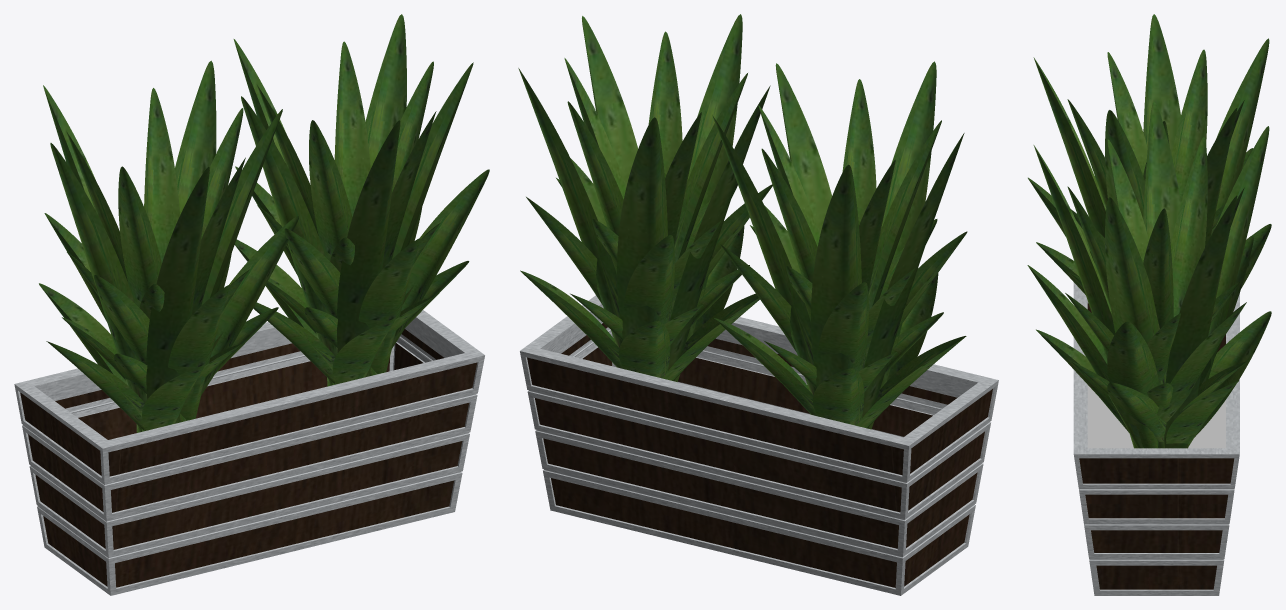
The model's file is Saksı Çiçek 1.fbx.
3 renders of one model, left to right at view 1: azimuth 30°, elevation 25°; view 2: azimuth 150°, elevation 25°; view 3: azimuth 270°, elevation 25°, orthographic. The views are drawn at different scales.
Parts seen in each view (by area): view 1: F1_MAD_TREC602424_1, Subsurf1, Subsurf31, Subsurf3, Subsurf10, Subsurf40, Subsurf33, Subsurf8, Subsurf38, Subsurf52, Subsurf5, Subsurf35 (+29 smaller); view 2: F1_MAD_TREC602424_1, Subsurf2, Subsurf32, Subsurf3, Subsurf5, Subsurf35, Subsurf33, Subsurf1, Subsurf31, Subsurf4, Subsurf34, Subsurf8 (+29 smaller); view 3: F1_MAD_TREC602424_1, Subsurf35, Subsurf34, Subsurf37, Subsurf32, Subsurf33, Subsurf52, Subsurf2, Subsurf31, Subsurf7, Subsurf3, Group8 (+22 smaller).
Boxes of the visible parts, box(x1,y1,x2,y2) form: F1_MAD_TREC602424_1: box(14, 310, 484, 595); Subsurf1: box(146, 166, 209, 423); Subsurf31: box(337, 120, 400, 377); Subsurf3: box(50, 143, 147, 431); Subsurf10: box(144, 88, 179, 262); Subsurf40: box(334, 41, 370, 216); Subsurf33: box(241, 96, 337, 384); Subsurf8: box(118, 166, 161, 307); Subsurf38: box(309, 120, 352, 261); Subsurf52: box(392, 169, 489, 348); Subsurf5: box(175, 60, 216, 215); Subsurf35: box(365, 14, 406, 168); F1_MAD_TREC602424_1: box(520, 295, 998, 595); Subsurf2: box(811, 164, 861, 387); Subsurf32: box(617, 117, 667, 339); Subsurf3: box(862, 133, 964, 428); Subsurf5: box(712, 115, 816, 394); Subsurf35: box(518, 68, 622, 347); Subsurf33: box(668, 85, 770, 381); Subsurf1: box(868, 61, 936, 429); Subsurf31: box(674, 14, 742, 381); Subsurf4: box(775, 63, 831, 235); Subsurf34: box(582, 16, 637, 187); Subsurf8: box(868, 120, 941, 310); F1_MAD_TREC602424_1: box(1073, 282, 1239, 595); Subsurf35: box(1164, 195, 1237, 448); Subsurf34: box(1105, 197, 1168, 448); Subsurf37: box(1171, 137, 1207, 316); Subsurf32: box(1202, 126, 1269, 390); Subsurf33: box(1143, 102, 1180, 244); Subsurf52: box(1107, 321, 1159, 448); Subsurf2: box(1211, 38, 1269, 235); Subsurf31: box(1033, 145, 1137, 448); Subsurf7: box(1171, 49, 1207, 201); Subsurf3: box(1143, 14, 1180, 154); Group8: box(1087, 385, 1225, 448).
Bounding box in the file's own units: 2.22 × 2.17 × 1.17.
